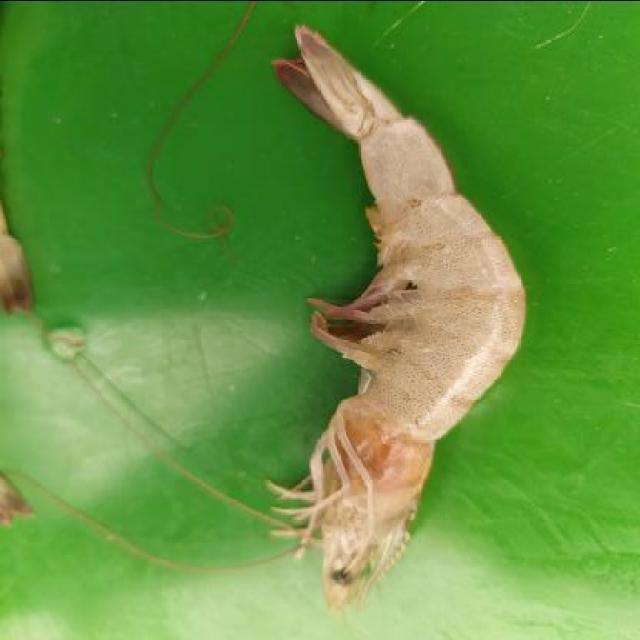shrimp: (288, 29, 520, 607)
